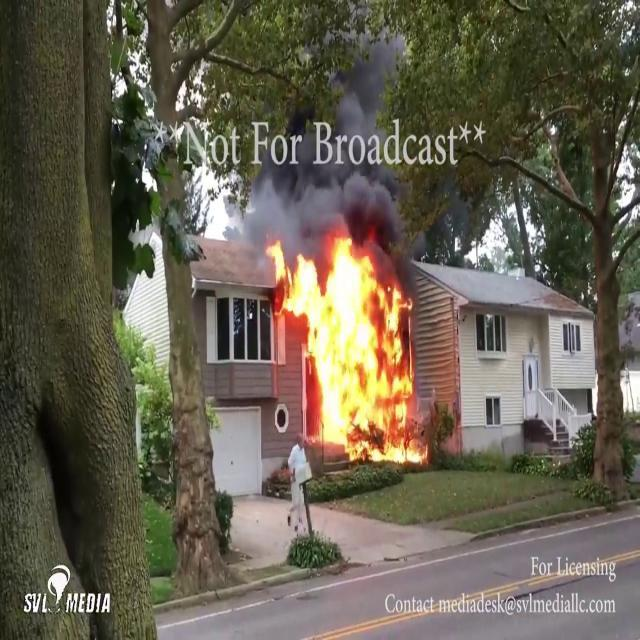Fire: (272, 230, 424, 462)
Smoke: (220, 63, 410, 251)
